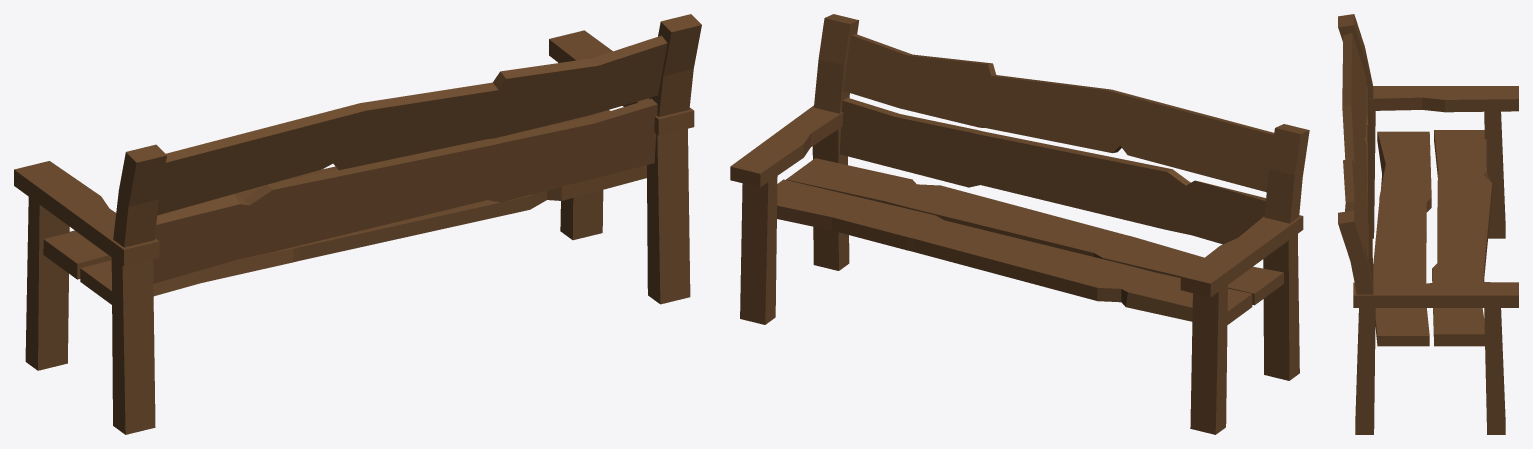
The model's file is Bench_1.glb.
3 renders of one model, left to right at view 1: azimuth 30°, elevation 25°; view 2: azimuth 150°, elevation 25°; view 3: azimuth 270°, elevation 25°, orthographic. The views are drawn at different scales.
Visible parts, largest first — view 1: Bench_1; view 2: Bench_1; view 3: Bench_1.
Boxes of the visible parts, left/top/right/bottom form: Bench_1: left=14, top=14, right=701, bottom=434; Bench_1: left=730, top=14, right=1309, bottom=434; Bench_1: left=1338, top=14, right=1518, bottom=434.
Bounding box in the file's own units: 0.665 × 0.3158 × 0.2424.
